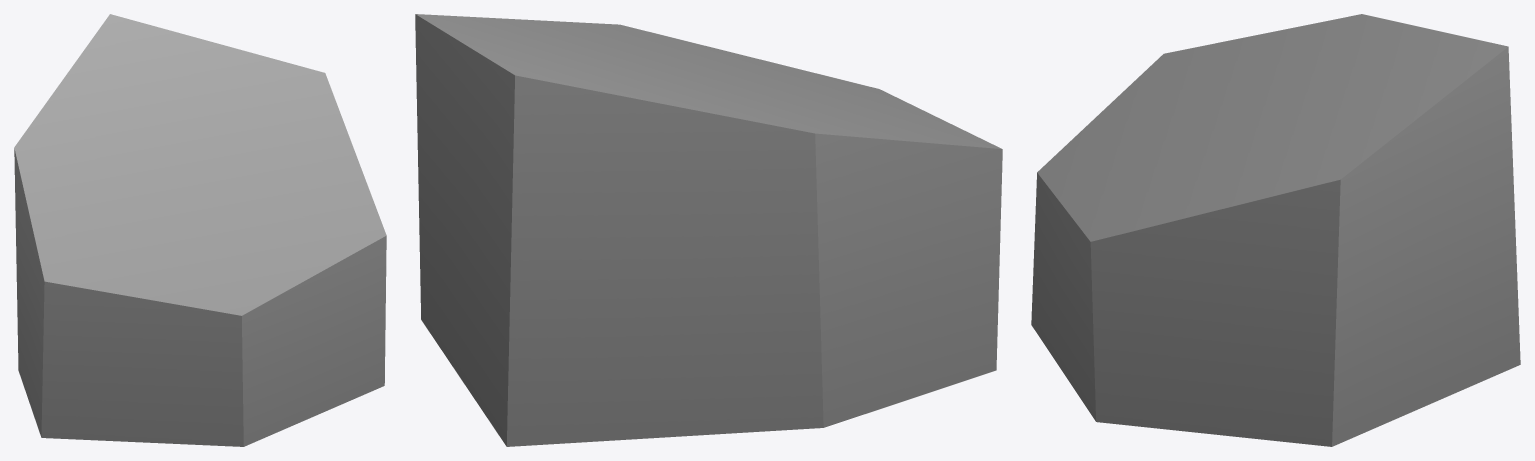
The model's file is stone small 10.fbx.
3 views of the same model, side by side, from view 1: azimuth 30°, elevation 25°; view 2: azimuth 150°, elevation 25°; view 3: azimuth 270°, elevation 25° (orthographic). The views are drawn at different scales.
Visible parts, largest first — view 1: stone small 10; view 2: stone small 10; view 3: stone small 10.
Boxes of the visible parts, box(x1,y1,x2,y2) form: stone small 10: box(14, 14, 386, 446); stone small 10: box(415, 14, 1002, 446); stone small 10: box(1031, 14, 1520, 446).
Size of the model in its own units: 120 by 86.85 by 121.
